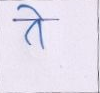i_matra: (21, 4, 49, 47)
